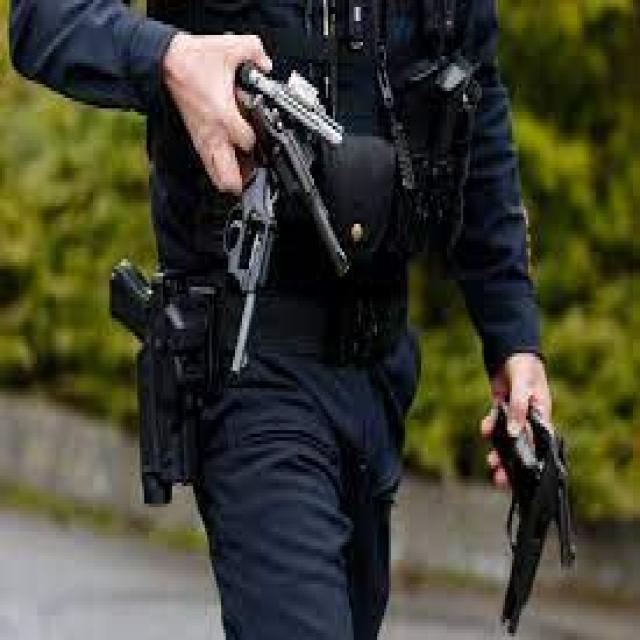weapons: (95, 236, 207, 510), (463, 384, 577, 640), (207, 140, 287, 390)
